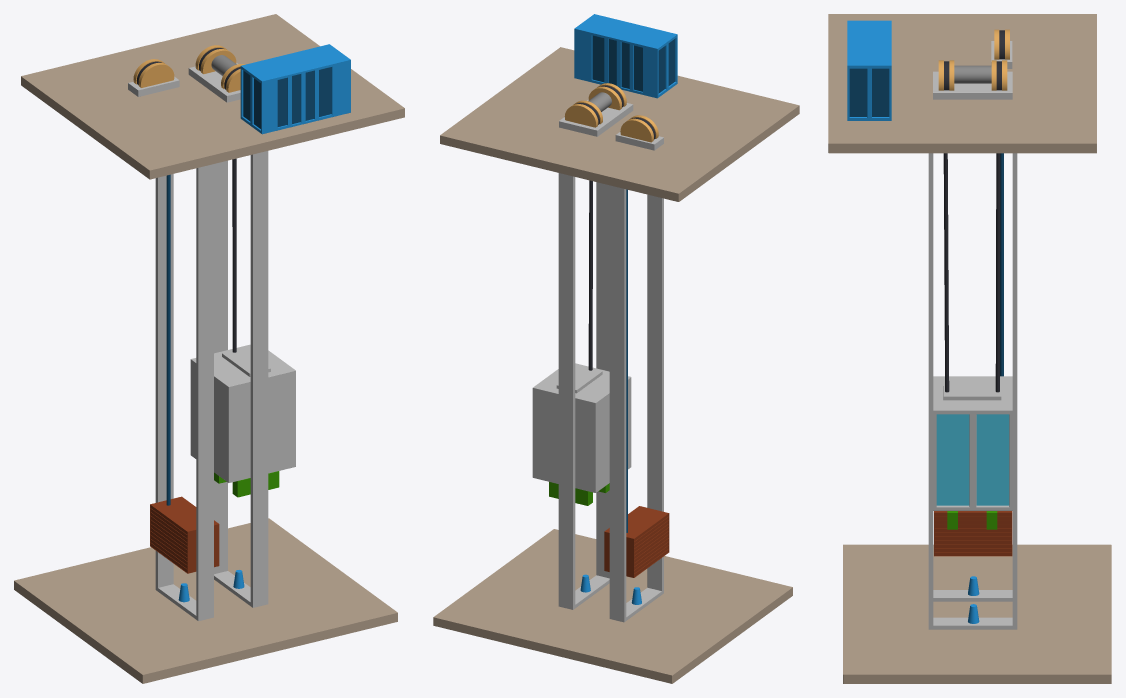
The model's file is elevator_sytem3.glb.
3 renders of one model, left to right at view 1: azimuth 30°, elevation 25°; view 2: azimuth 150°, elevation 25°; view 3: azimuth 270°, elevation 25°, orthographic. The views are drawn at different scales.
Parts seen in each view (by area): view 1: Elevator Machine Room.001, Elevator Machine Room, Elevator_guiderails1, Counterweight_guiderails2, Elevator, Electrical Control System, Counterweight_guiderails1, Elevator_guiderails2, Counterweight, Corda_Counterweight, Corda.001, Rodela_Counterweight (+2 smaller); view 2: Elevator Machine Room.001, Elevator Machine Room, Elevator_guiderails2, Counterweight_guiderails1, Elevator, Electrical Control System, Counterweight_guiderails2, Elevator_guiderails1, Counterweight, Apoio_Traction, Corda, Rodela_Counterweight (+2 smaller); view 3: Elevator Machine Room.001, Elevator Machine Room, Elevator, Electrical Control System, Counterweight, Elevator_guiderails1, Elevator_guiderails2, Apoio_Traction, Corda, Corda.001, Elevator_guiderails3, Counterweight_guiderails3 (+6 smaller).
Boxes of the visible parts, left/top/right/bottom form: Elevator Machine Room.001: left=14, top=518, right=397, bottom=683; Elevator Machine Room: left=21, top=14, right=404, bottom=179; Elevator_guiderails1: left=250, top=151, right=268, bottom=607; Counterweight_guiderails2: left=196, top=164, right=213, bottom=621; Elevator: left=190, top=344, right=295, bottom=482; Electrical Control System: left=240, top=44, right=350, bottom=134; Counterweight_guiderails1: left=155, top=174, right=173, bottom=591; Elevator_guiderails2: left=214, top=160, right=227, bottom=574; Counterweight: left=150, top=496, right=219, bottom=573; Corda_Counterweight: left=166, top=174, right=170, bottom=505; Corda.001: left=232, top=158, right=236, bottom=352; Rodela_Counterweight: left=133, top=59, right=174, bottom=87; Elevator Machine Room.001: left=433, top=529, right=792, bottom=683; Elevator Machine Room: left=440, top=47, right=799, bottom=201; Elevator_guiderails2: left=558, top=173, right=575, bottom=609; Counterweight_guiderails1: left=609, top=185, right=626, bottom=622; Elevator: left=532, top=363, right=631, bottom=492; Electrical Control System: left=574, top=14, right=677, bottom=98; Counterweight_guiderails2: left=647, top=194, right=663, bottom=594; Elevator_guiderails1: left=596, top=182, right=609, bottom=578; Counterweight: left=604, top=506, right=669, bottom=577; Apoio_Traction: left=559, top=99, right=633, bottom=136; Corda: left=588, top=180, right=592, bottom=370; Rodela_Counterweight: left=620, top=115, right=658, bottom=142; Elevator Machine Room.001: left=843, top=544, right=1111, bottom=683; Elevator Machine Room: left=828, top=14, right=1096, bottom=153; Elevator: left=933, top=376, right=1012, bottom=510; Electrical Control System: left=847, top=20, right=891, bottom=120; Counterweight: left=934, top=511, right=1012, bottom=556; Elevator_guiderails1: left=928, top=153, right=933, bottom=629; Elevator_guiderails2: left=1012, top=153, right=1017, bottom=629; Apoio_Traction: left=933, top=71, right=1012, bottom=99; Corda: left=943, top=153, right=949, bottom=392; Corda.001: left=995, top=153, right=1000, bottom=392; Elevator_guiderails3: left=933, top=617, right=1012, bottom=629; Counterweight_guiderails3: left=933, top=590, right=1012, bottom=601.
Size of the model in its own units: 10.09 by 21.58 by 9.3.
